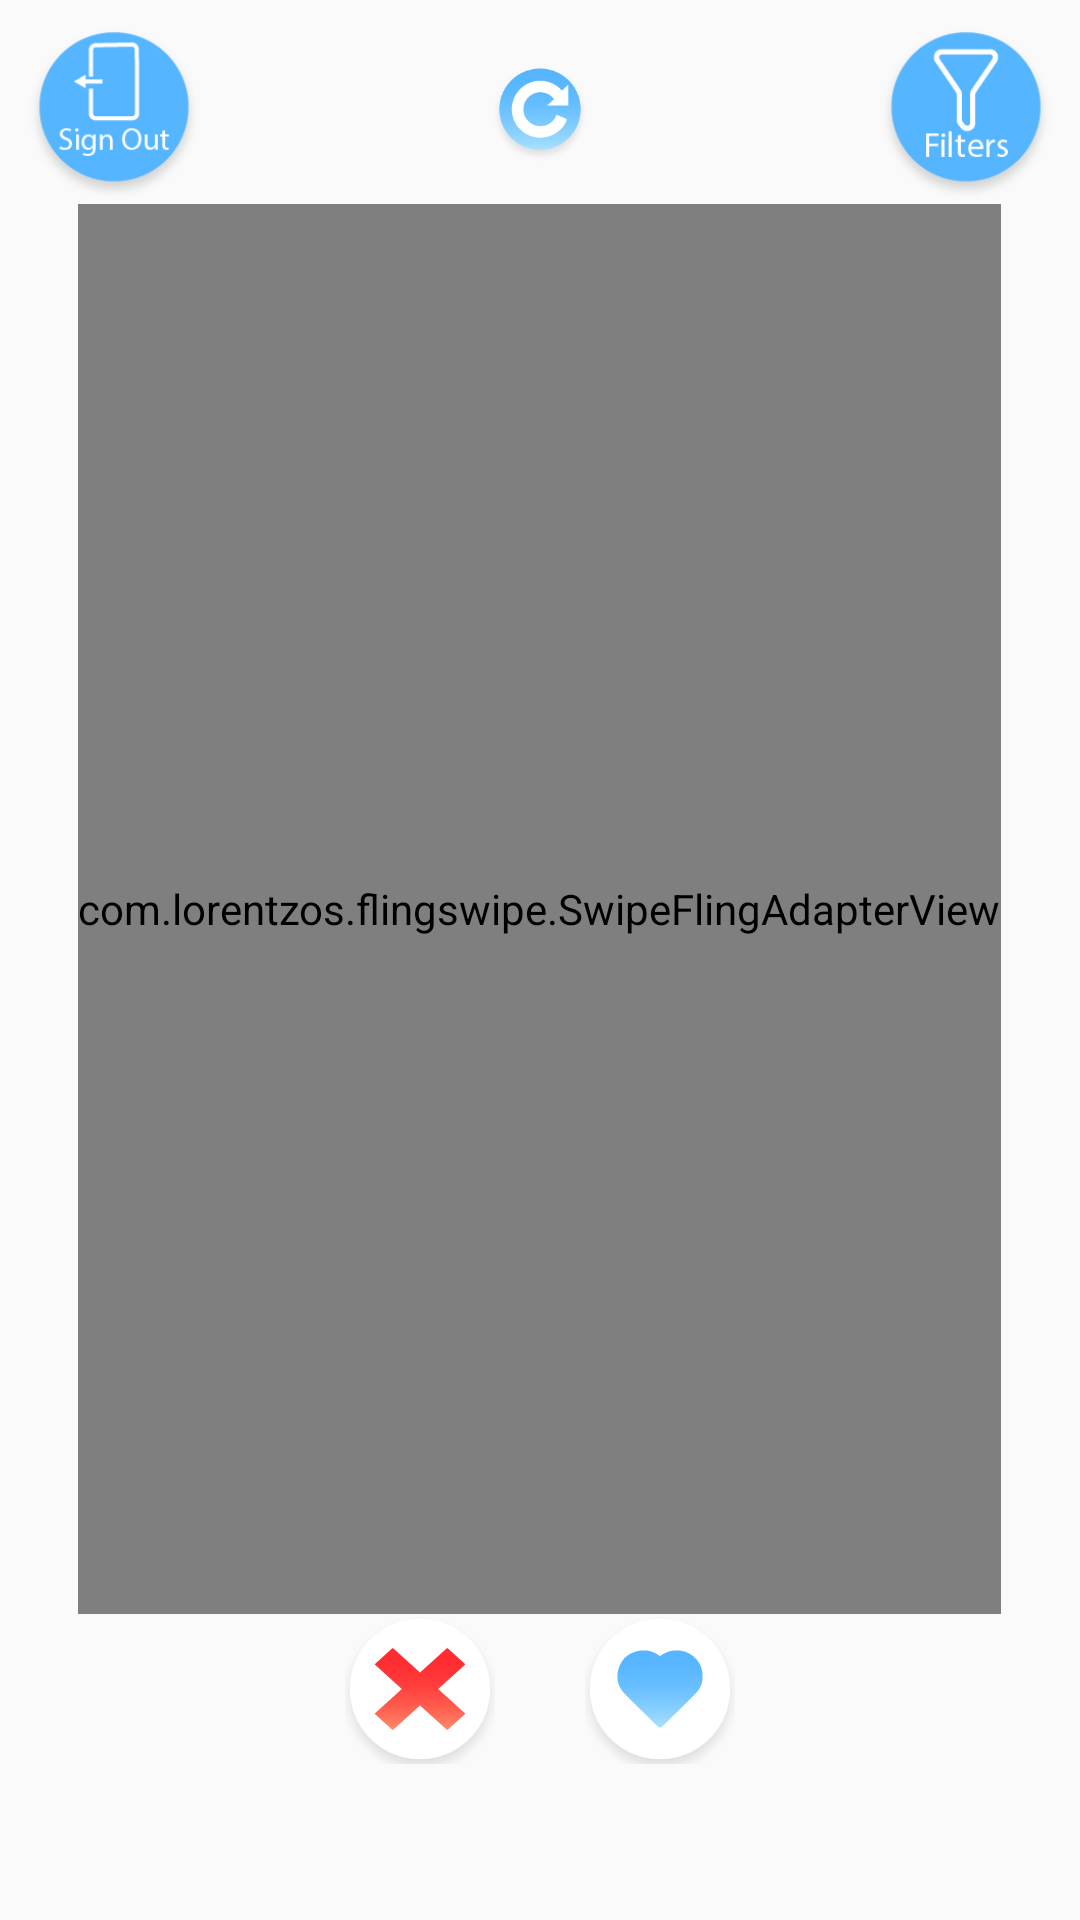

Icon bounding boxes for this 1080x1920 phone screenshot, format (x1,y1,x2,y2):
refreshbtn: (499,68,581,151)
